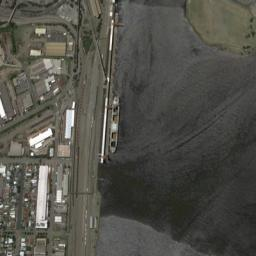boat: (109, 96, 120, 153)
